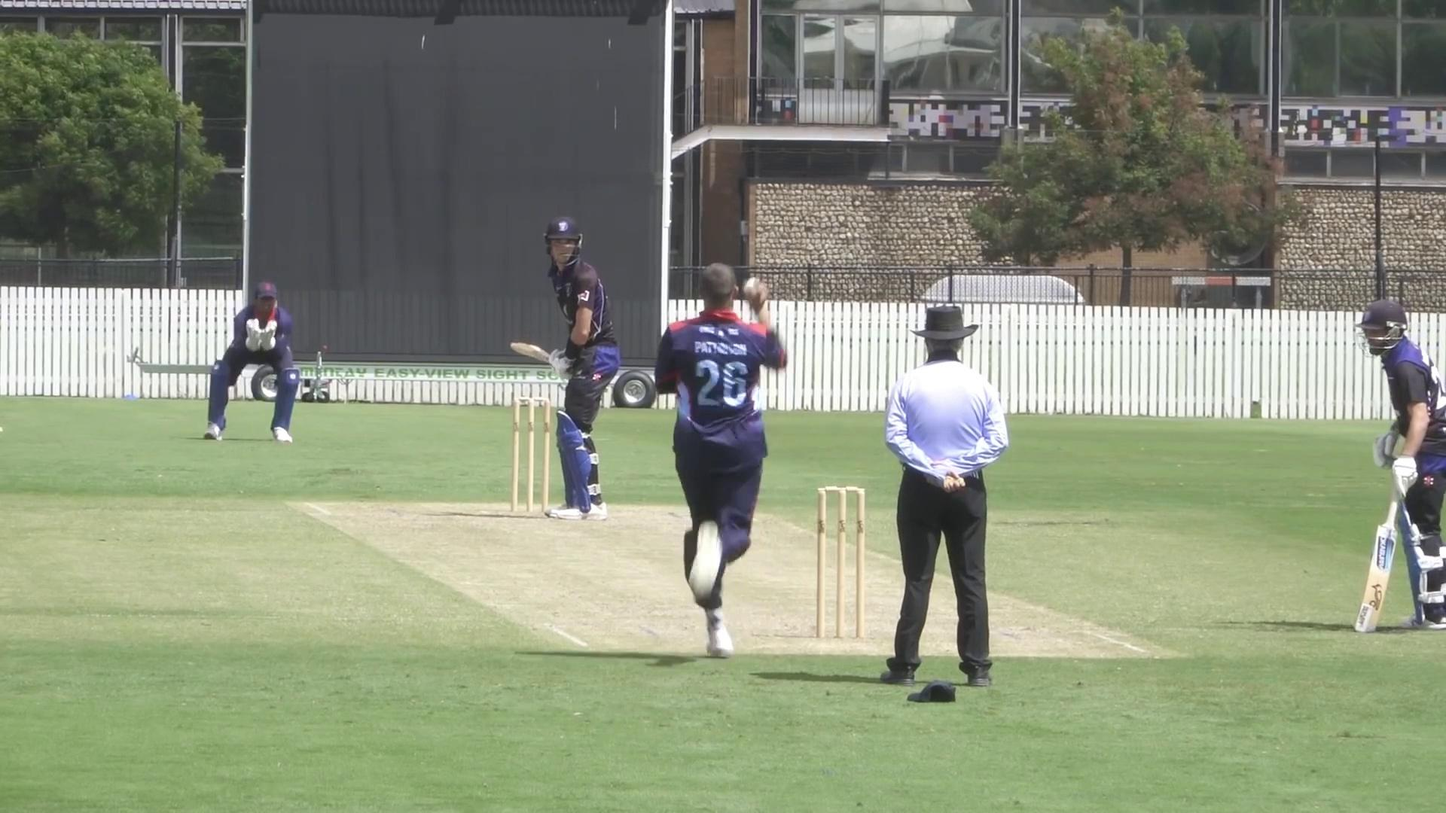ball: (740, 272, 766, 300)
